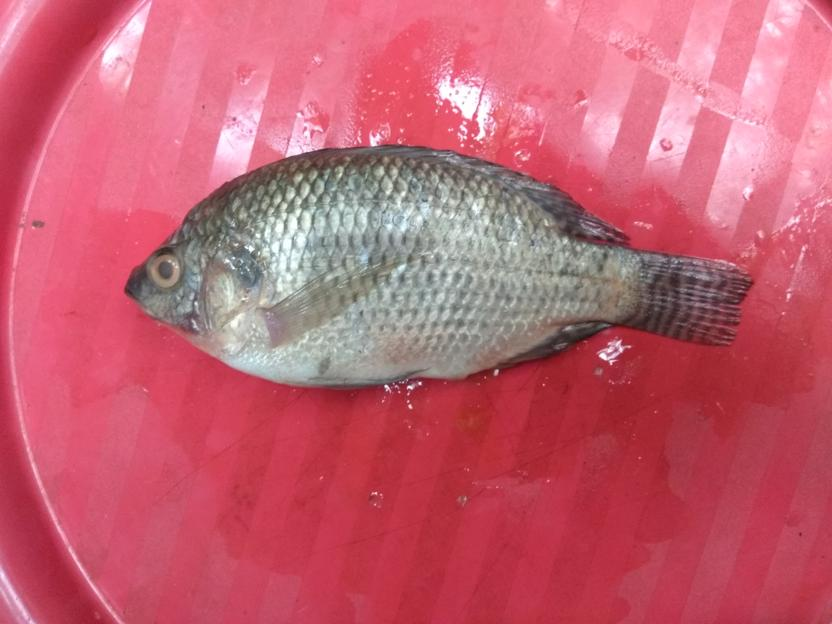Fish head: (122, 209, 265, 356)
Fish tail: (624, 250, 756, 350)
